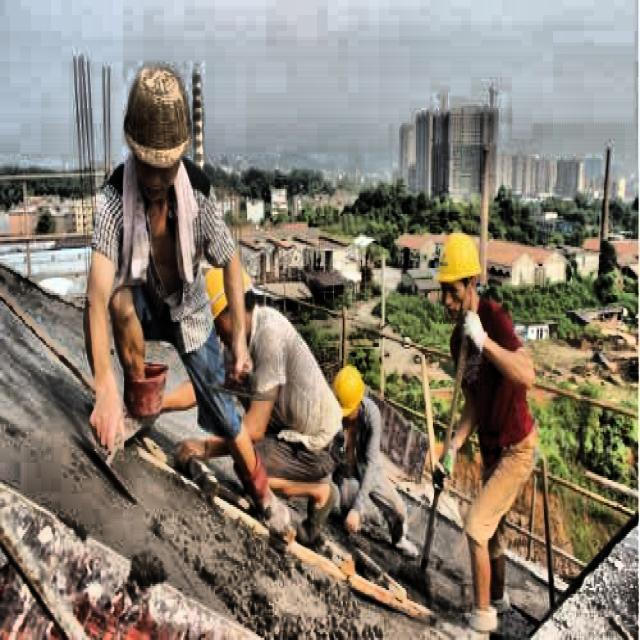helmet: (120, 52, 196, 216), (201, 254, 259, 349), (432, 227, 486, 326), (330, 358, 369, 432)
